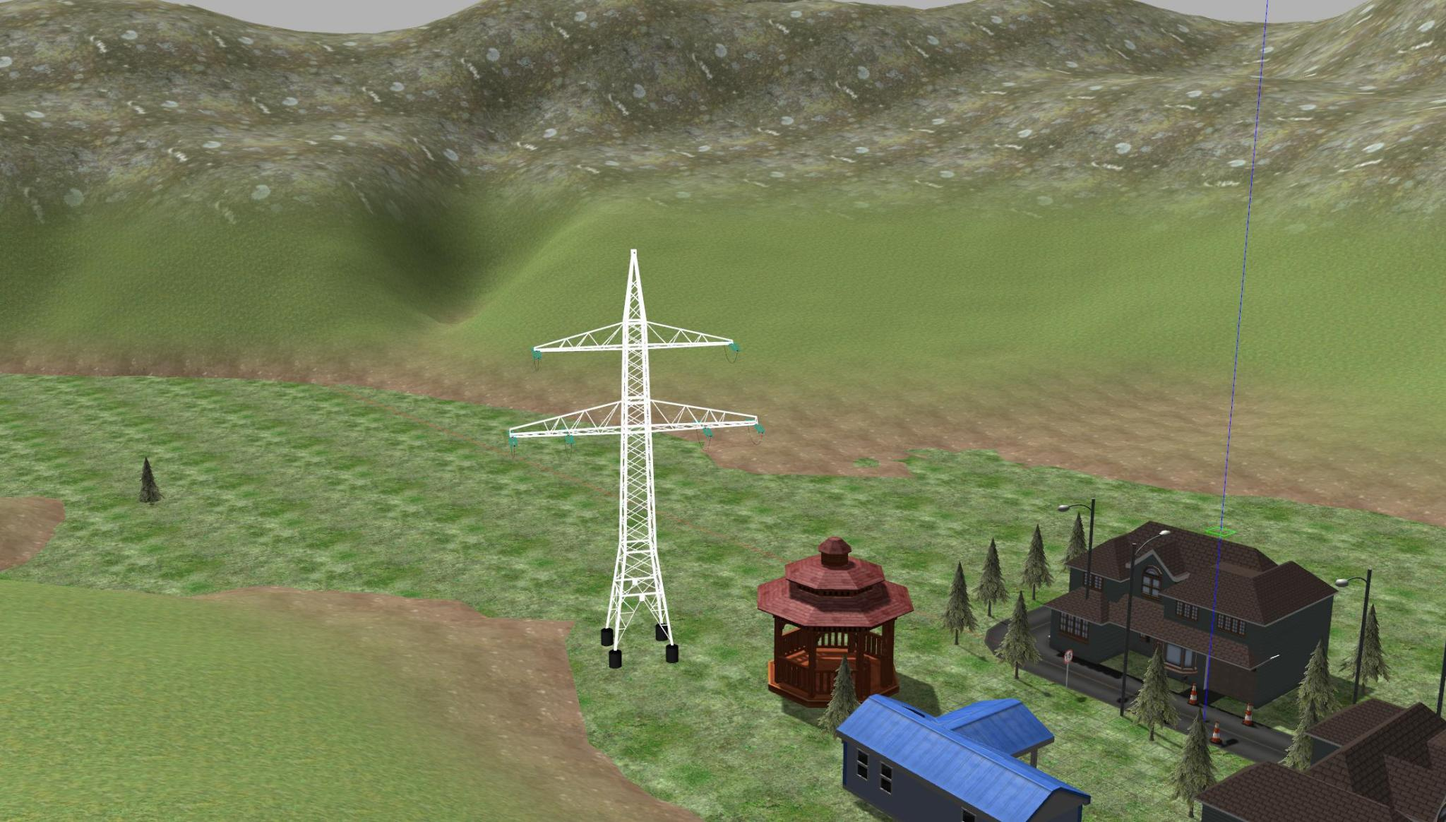tower: (506, 249, 757, 636)
